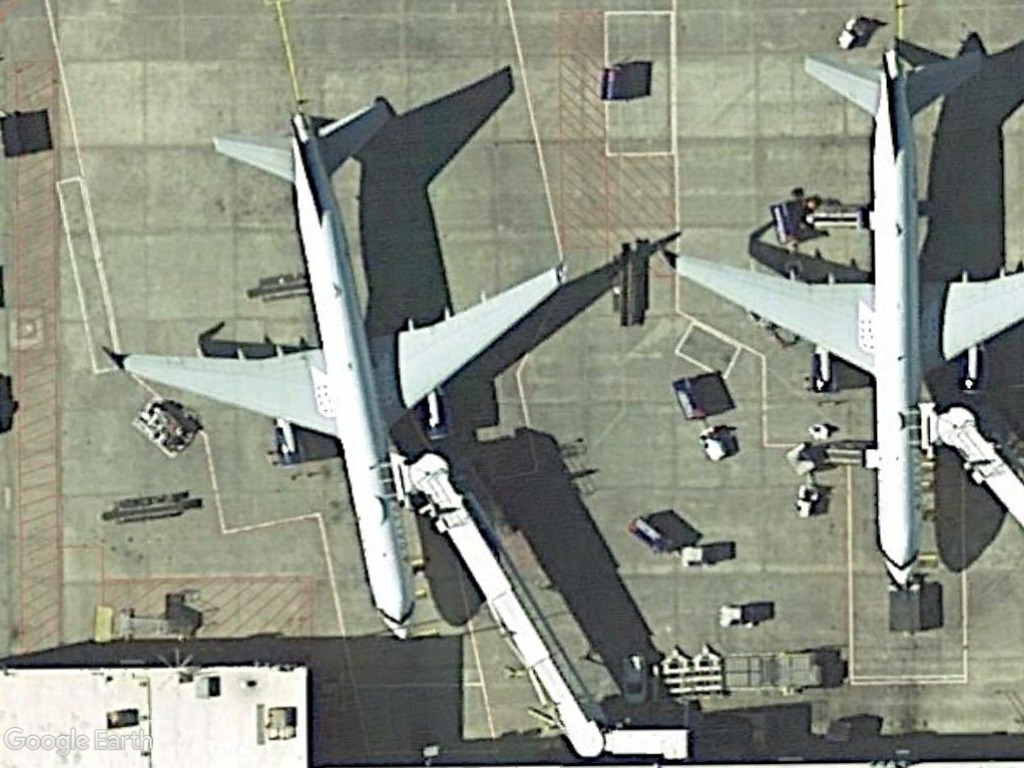airliner: (112, 86, 568, 650)
